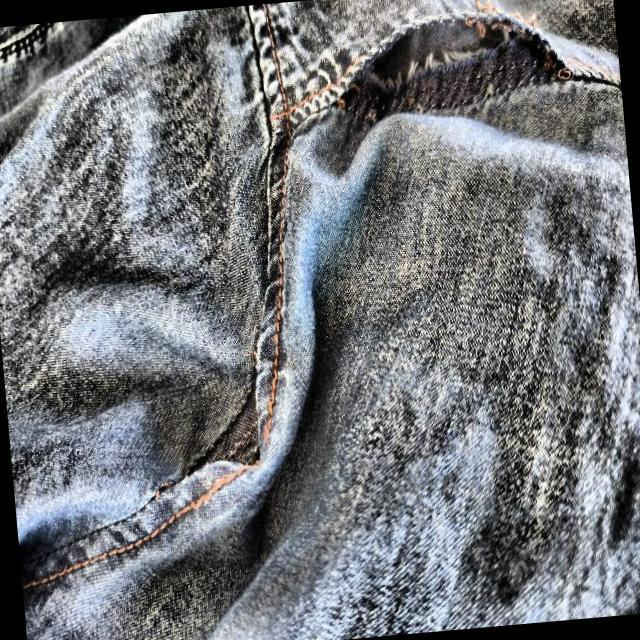cut: (315, 0, 590, 129)
